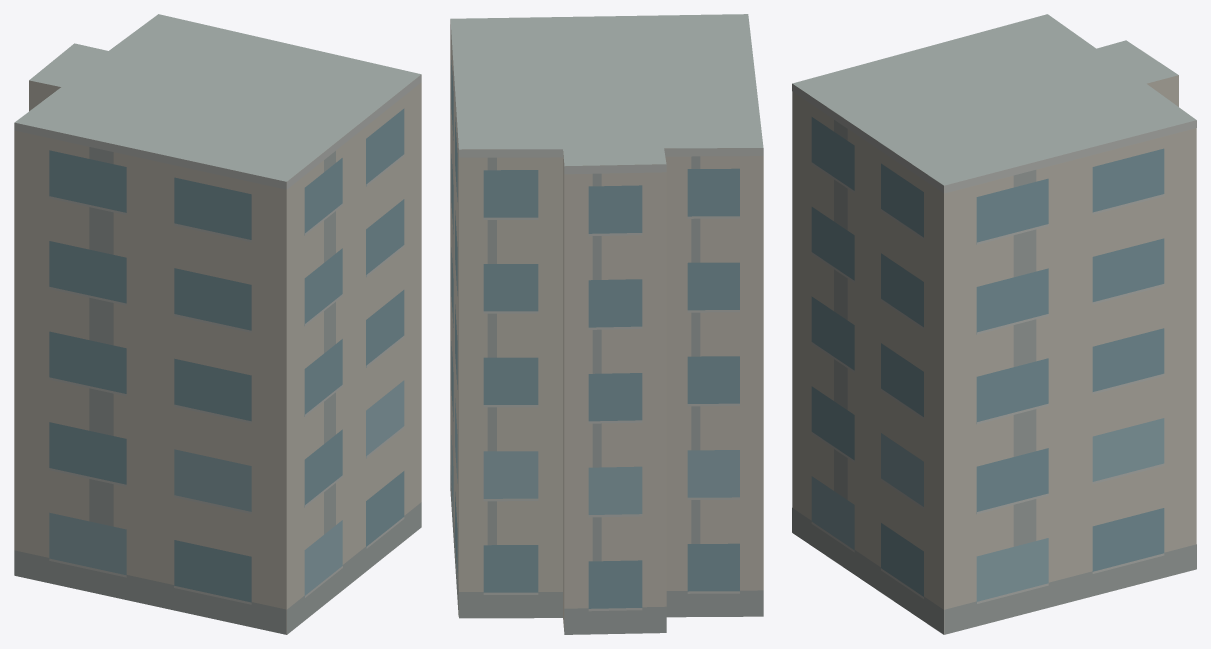
Rendered from survey-upis-32532243.glb.
The picture shows the model from 3 angles, left to right: view 1: azimuth 30°, elevation 25°; view 2: azimuth 150°, elevation 25°; view 3: azimuth 270°, elevation 25°; orthographic projection. The views are drawn at different scales.
Visible parts, largest first — view 1: survey-upis-32532243.tmp; view 2: survey-upis-32532243.tmp; view 3: survey-upis-32532243.tmp.
Boxes of the visible parts, box(x1,y1,x2,y2) form: survey-upis-32532243.tmp: box(14, 14, 421, 634); survey-upis-32532243.tmp: box(450, 14, 763, 634); survey-upis-32532243.tmp: box(792, 14, 1196, 634).
Bounding box in the file's own units: 11.4 × 13.9 × 11.36.
